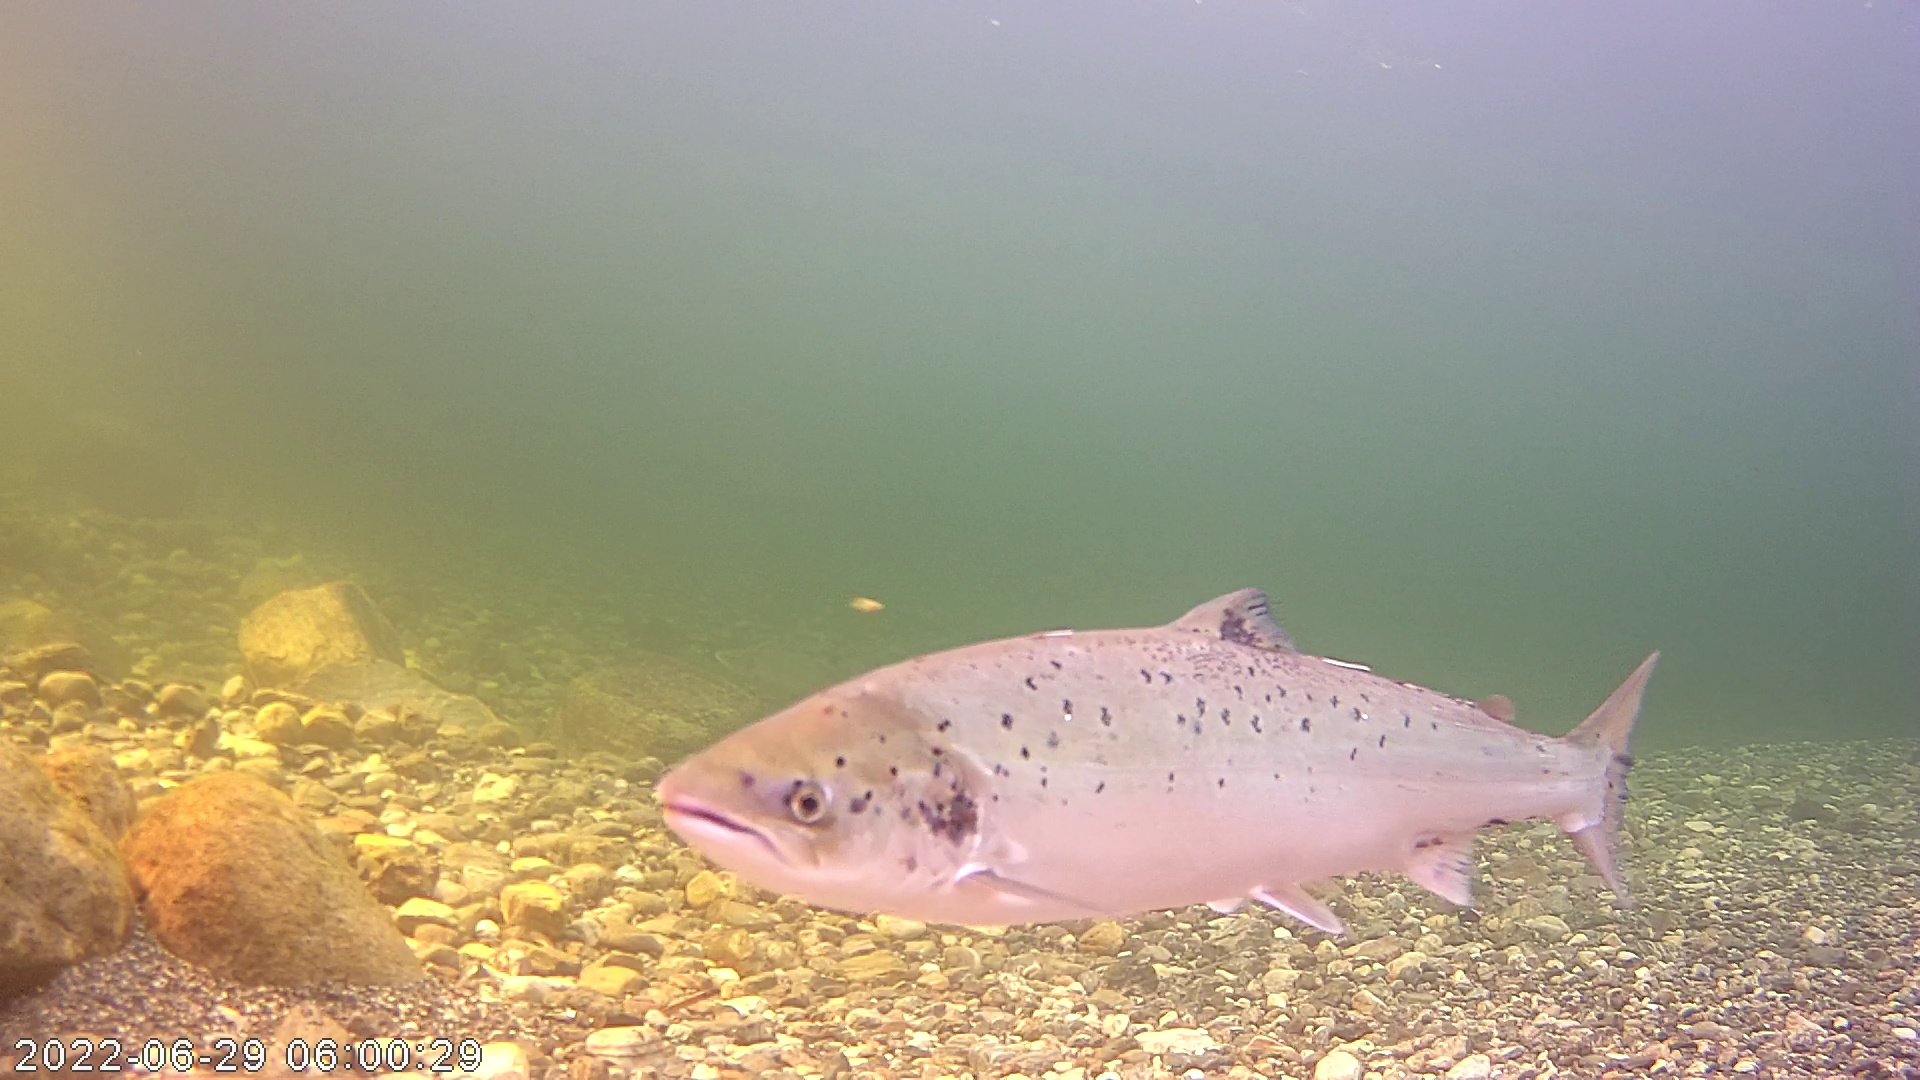salmon: (687, 498, 1662, 942)
